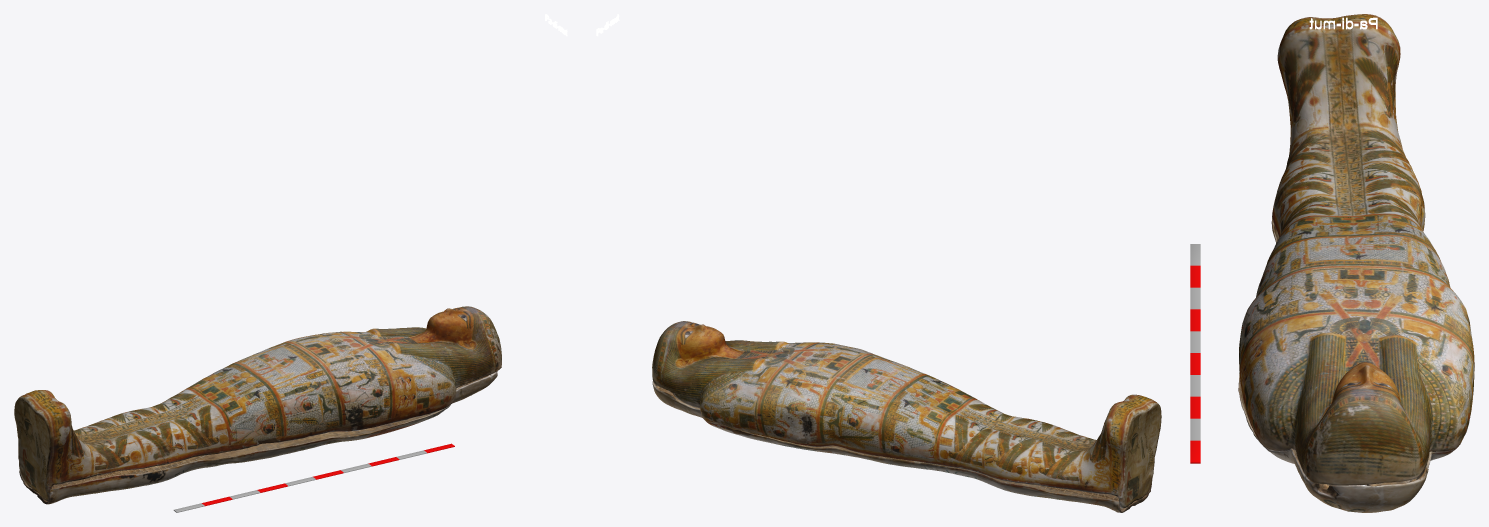
File: hawk.glb
3 views of the same model, side by side, from view 1: azimuth 30°, elevation 25°; view 2: azimuth 150°, elevation 25°; view 3: azimuth 270°, elevation 25° (orthographic). The views are drawn at different scales.
Parts seen in each view (by area): view 1: Pa-di-mut TOP_LD_Material #30_0, Pa-di-mut BOTTOM_LD_Material #29_0, Box007, Object003_Material #9_0; view 2: Pa-di-mut TOP_LD_Material #30_0, Pa-di-mut BOTTOM_LD_Material #29_0; view 3: Pa-di-mut TOP_LD_Material #30_0, Pa-di-mut BOTTOM_LD_Material #29_0, Object003_Material #9_0, Box007, Text003.
Part boxes in pixels (left/top/right/bottom): Pa-di-mut TOP_LD_Material #30_0: left=14, top=306, right=501, bottom=500; Pa-di-mut BOTTOM_LD_Material #29_0: left=19, top=371, right=497, bottom=504; Box007: left=173, top=450, right=426, bottom=512; Object003_Material #9_0: left=202, top=443, right=454, bottom=506; Pa-di-mut TOP_LD_Material #30_0: left=652, top=321, right=1161, bottom=508; Pa-di-mut BOTTOM_LD_Material #29_0: left=652, top=381, right=1151, bottom=512; Pa-di-mut TOP_LD_Material #30_0: left=1239, top=14, right=1474, bottom=485; Pa-di-mut BOTTOM_LD_Material #29_0: left=1238, top=216, right=1458, bottom=512; Object003_Material #9_0: left=1190, top=265, right=1200, bottom=463; Box007: left=1190, top=244, right=1200, bottom=440; Text003: left=1309, top=17, right=1377, bottom=29.
Bounding box in the file's own units: 190 × 121 × 55.69.
5 materials, 2 textured.
